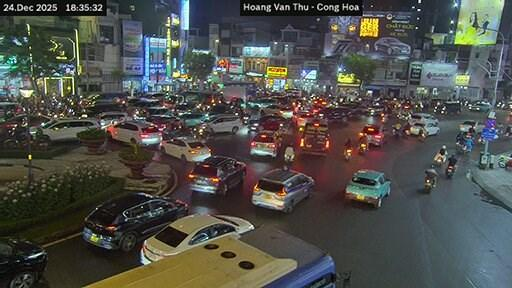motorbike: (0, 126, 18, 148), (192, 126, 211, 138), (423, 176, 434, 193), (498, 154, 511, 166), (444, 165, 454, 178), (455, 142, 466, 153), (434, 154, 444, 166), (358, 143, 367, 153), (344, 148, 351, 160), (284, 153, 293, 162), (380, 112, 387, 122), (419, 131, 425, 140)
